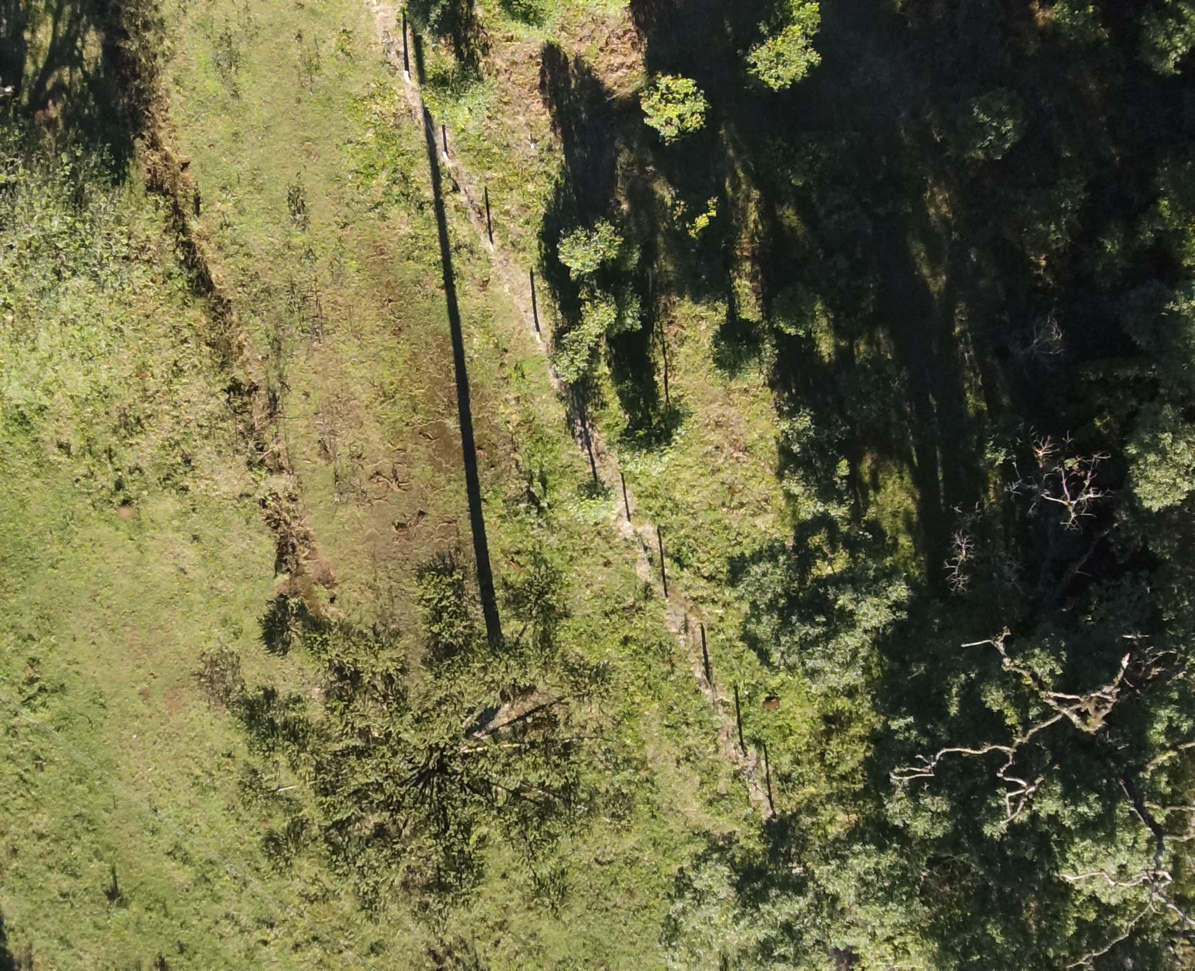erva: (625, 69, 717, 143), (612, 403, 697, 483), (547, 291, 619, 382), (705, 314, 780, 394), (736, 28, 817, 90), (426, 61, 488, 135), (654, 187, 724, 238), (558, 215, 617, 274), (767, 282, 821, 339), (760, 0, 838, 35)
